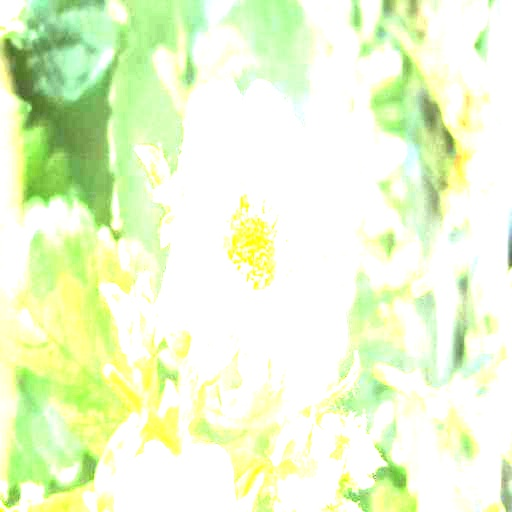Blossom Blight: (215, 176, 301, 308)
